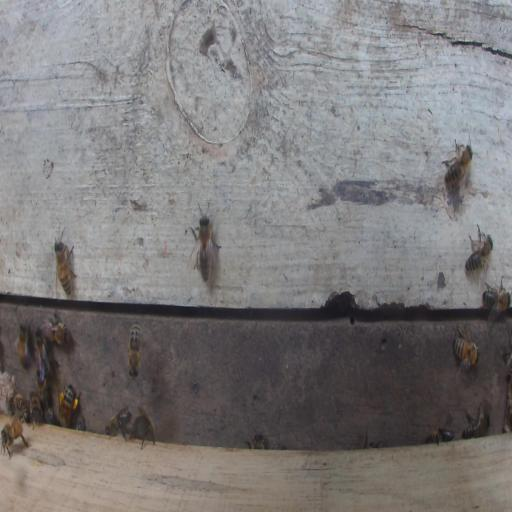bee: (188, 203, 222, 284), (442, 139, 473, 194), (53, 229, 75, 297), (464, 225, 493, 276), (482, 277, 511, 320), (453, 329, 480, 374), (1, 415, 29, 458), (127, 412, 156, 450), (42, 311, 70, 346), (462, 406, 490, 439), (59, 385, 79, 427), (106, 407, 132, 439), (35, 329, 52, 375), (128, 321, 141, 381), (17, 322, 31, 371), (10, 393, 31, 421), (425, 426, 455, 444), (482, 282, 500, 311), (29, 392, 43, 426), (37, 369, 48, 411), (247, 433, 269, 449), (75, 415, 85, 430)
